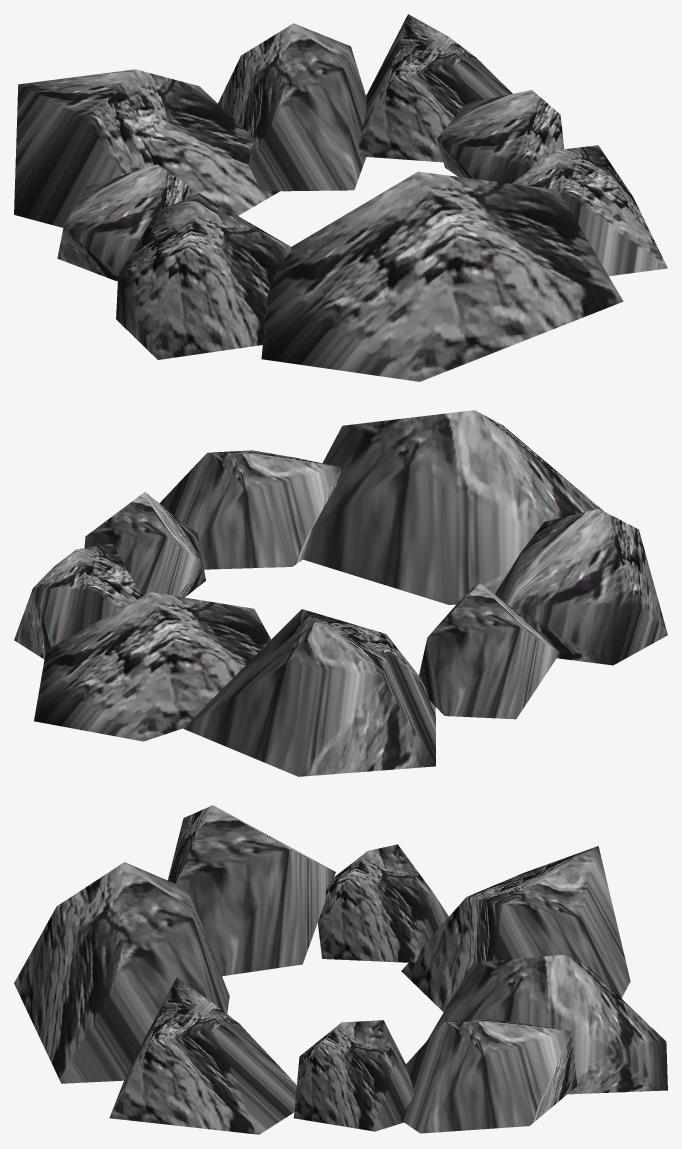
3 renders of one model, top to bottom at view 1: azimuth 30°, elevation 25°; view 2: azimuth 150°, elevation 25°; view 3: azimuth 270°, elevation 25°, orthographic. The views are drawn at different scales.
Parts seen in each view (by area): view 1: Stone05; view 2: Stone05; view 3: Stone05.
Boxes of the visible parts, <box> form: Stone05: <box>14,14,667,381</box>; Stone05: <box>14,410,667,776</box>; Stone05: <box>14,805,667,1134</box>.
Size of the model in its own units: 98.21 by 29.71 by 112.
